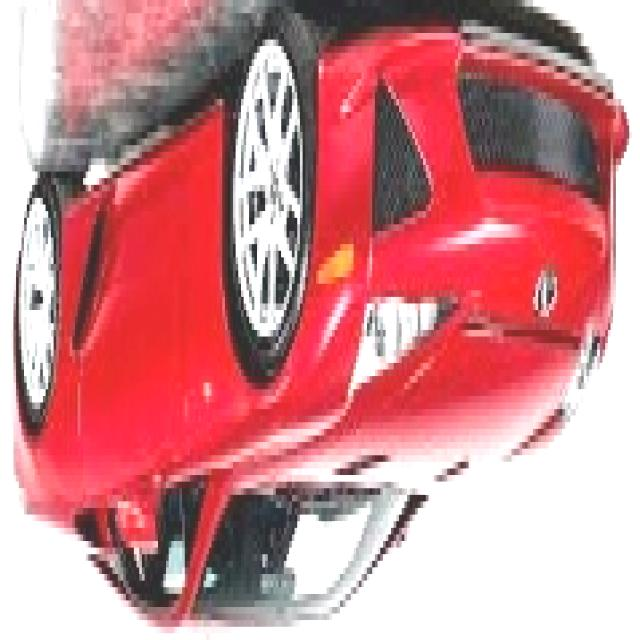red: (5, 59, 640, 640)
